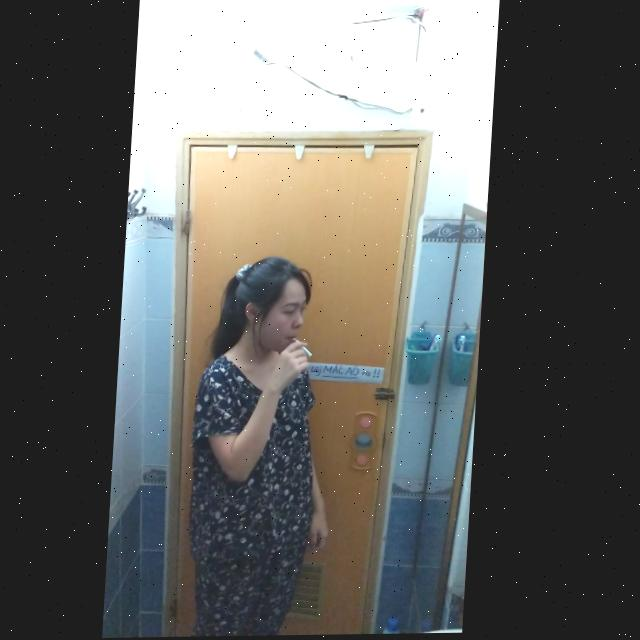cigarette: (298, 339, 318, 359)
